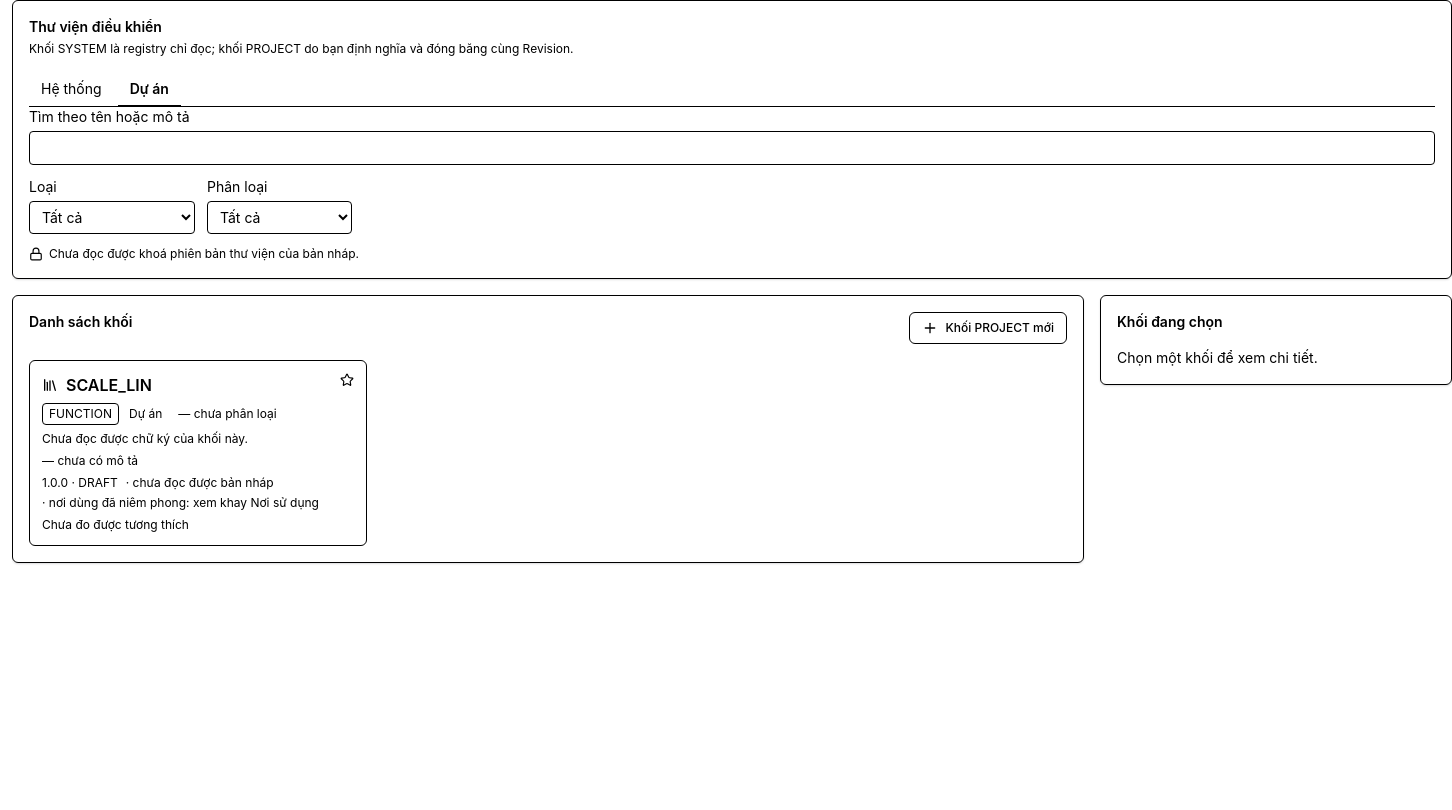
LibraryPage — trạng thái trong URL › đổi bộ lọc ghi vào URL để dán link được
Expected: the button with test id "library-block-card" is shown, [29, 360, 367, 546]
Select "Điều khiển" in the dropdown labelled "Phân loại" at [280, 218], box [207, 201, 352, 234]
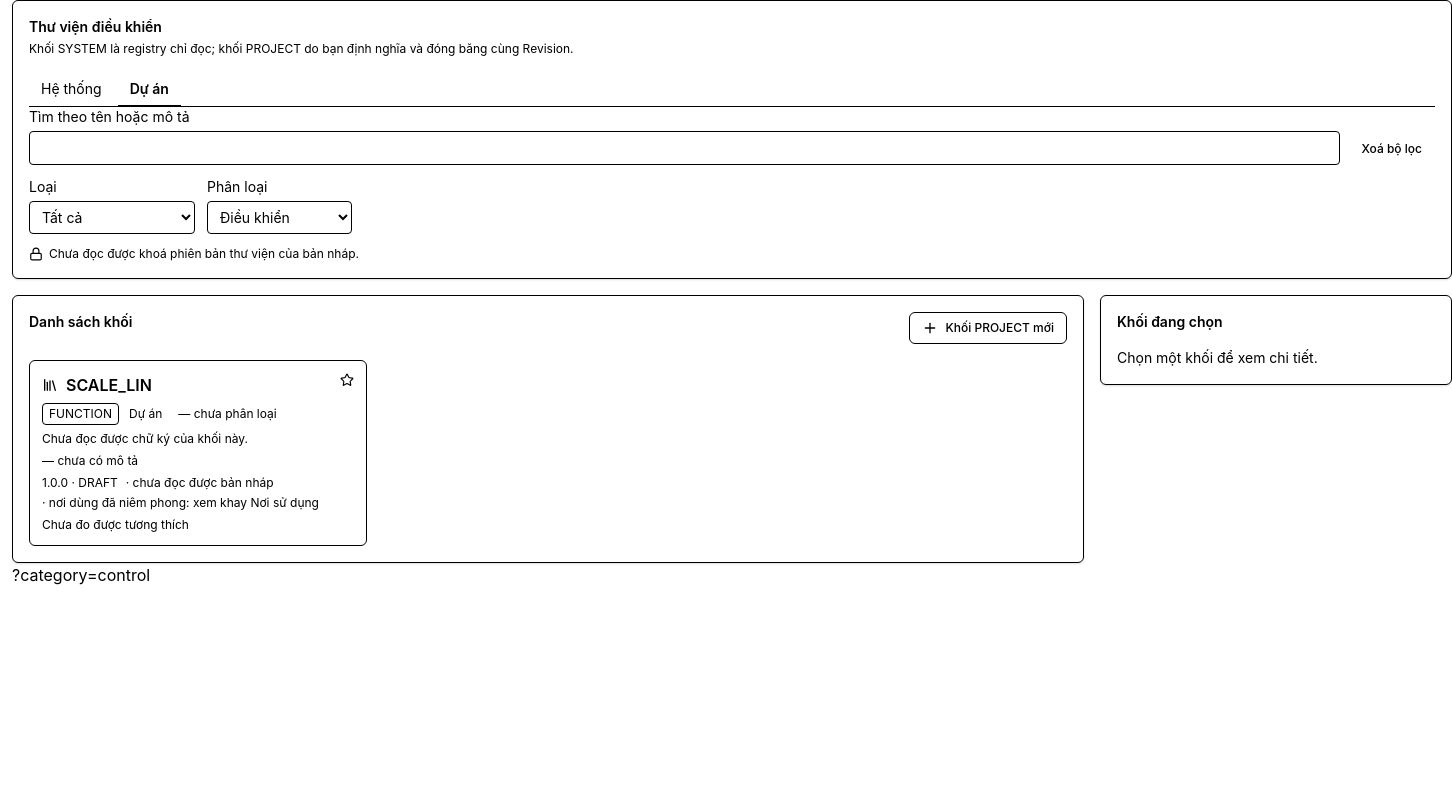
Result: the text with test id "loc" shows "category=control" at [12, 565, 150, 585]
